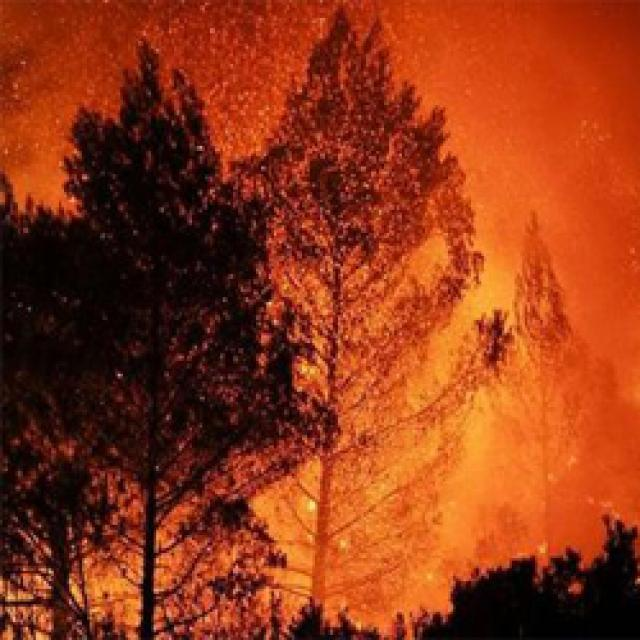Fire: (156, 0, 450, 247), (254, 248, 444, 604), (42, 551, 162, 640), (189, 527, 251, 640)
Smoke: (443, 0, 640, 563), (0, 0, 131, 223)
